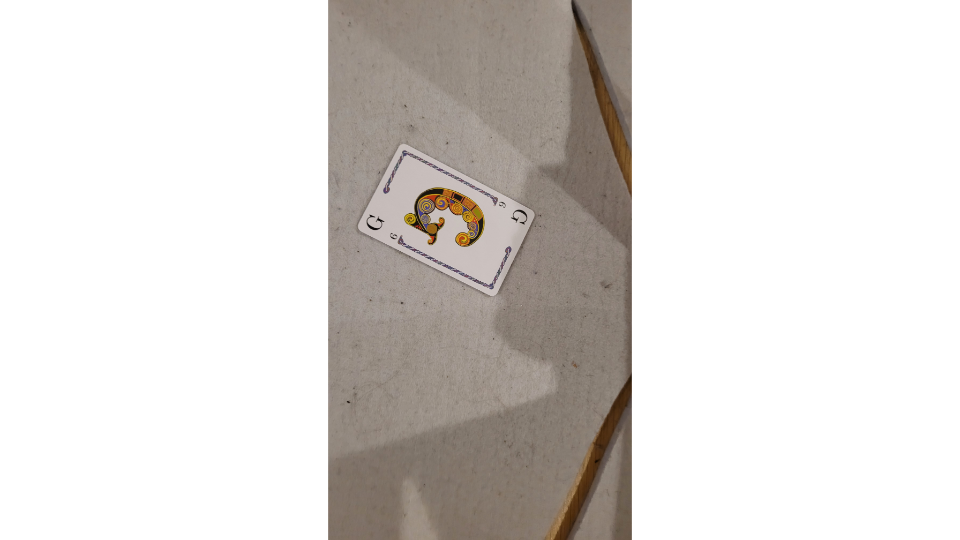G: (354, 141, 538, 300)
